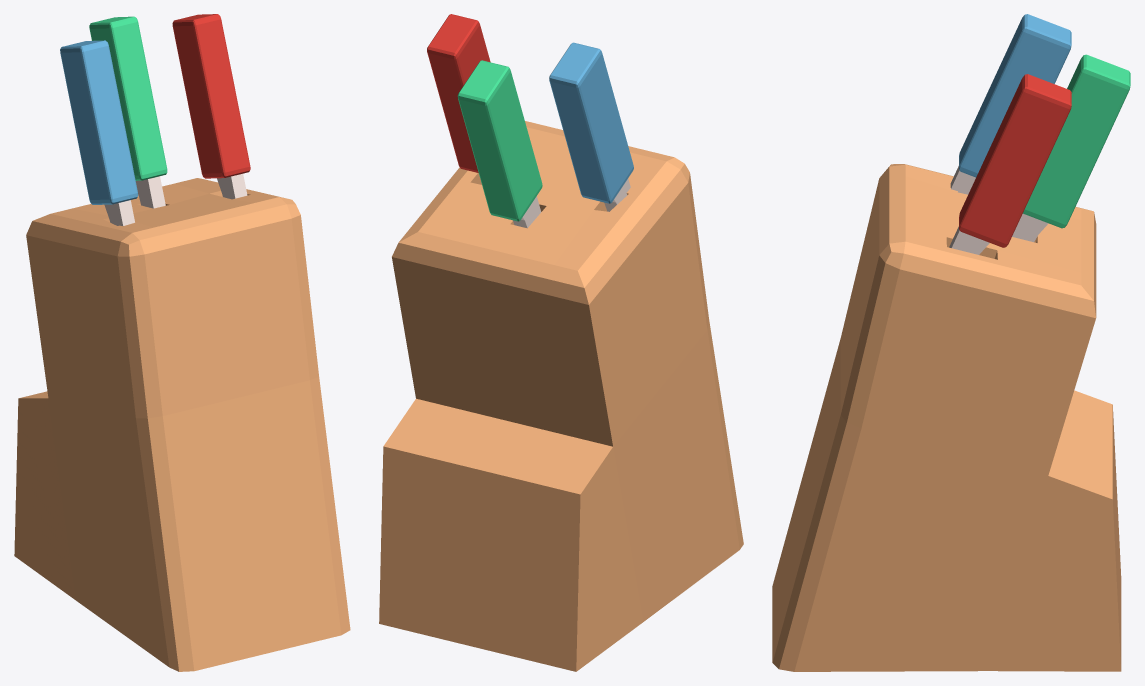
File: KnifeHolder.glb
The picture shows the model from 3 angles, left to right: view 1: azimuth 30°, elevation 25°; view 2: azimuth 150°, elevation 25°; view 3: azimuth 270°, elevation 25°; orthographic projection. The views are drawn at different scales.
Visible parts, largest first — view 1: Cube.001; view 2: Cube.001; view 3: Cube.001.
Part boxes in pixels (left/top/right/bottom): Cube.001: left=14, top=14, right=350, bottom=671; Cube.001: left=379, top=14, right=743, bottom=671; Cube.001: left=772, top=14, right=1130, bottom=671.
Size of the model in its own units: 1.72 by 4.85 by 2.74.
